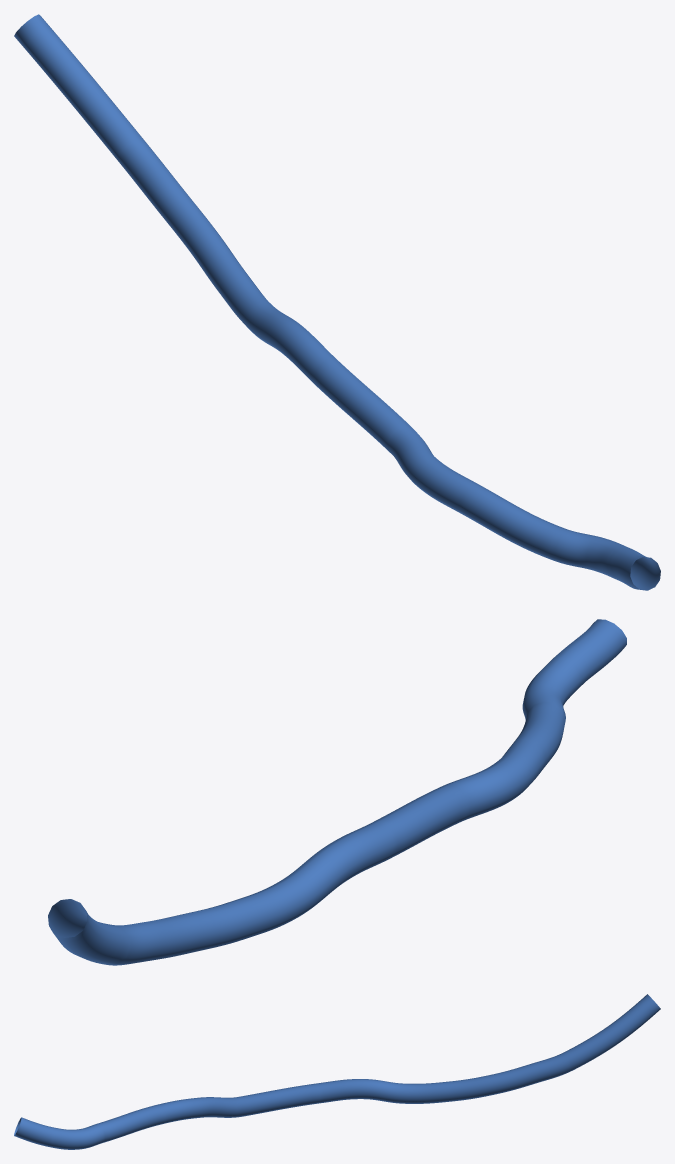
3 renders of one model, top to bottom at view 1: azimuth 30°, elevation 25°; view 2: azimuth 150°, elevation 25°; view 3: azimuth 270°, elevation 25°, orthographic. The views are drawn at different scales.
Visible parts, largest first — view 1: 右侧股静脉; view 2: 右侧股静脉; view 3: 右侧股静脉.
Boxes of the visible parts, x1=… form: 右侧股静脉: x1=14, y1=14, x2=660, y2=590; 右侧股静脉: x1=48, y1=619, x2=626, y2=965; 右侧股静脉: x1=14, y1=994, x2=660, y2=1149.
Size of the model in its own units: 0.0582 by 0.1049 by 0.4718.
